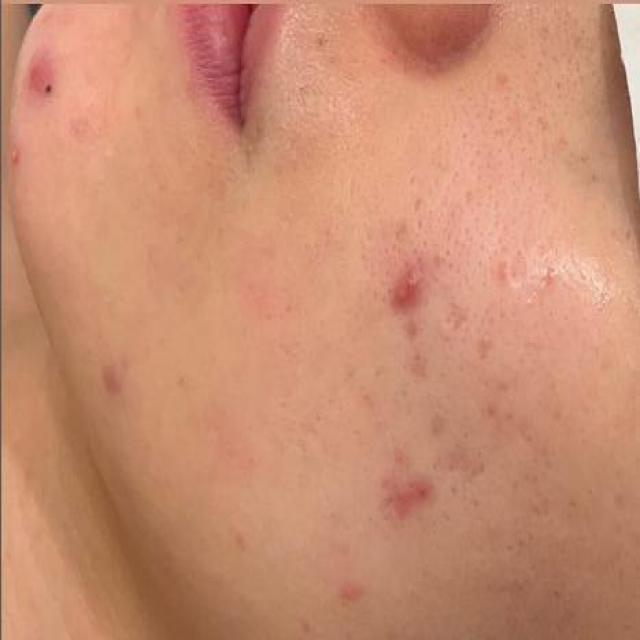Pimples: (379, 455, 446, 545), (377, 242, 443, 322), (22, 36, 55, 107)
